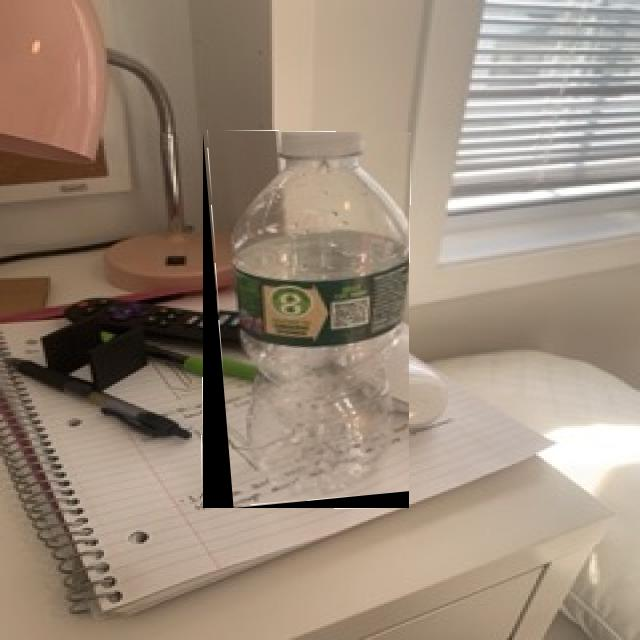water_bottle: (203, 132, 409, 508)
